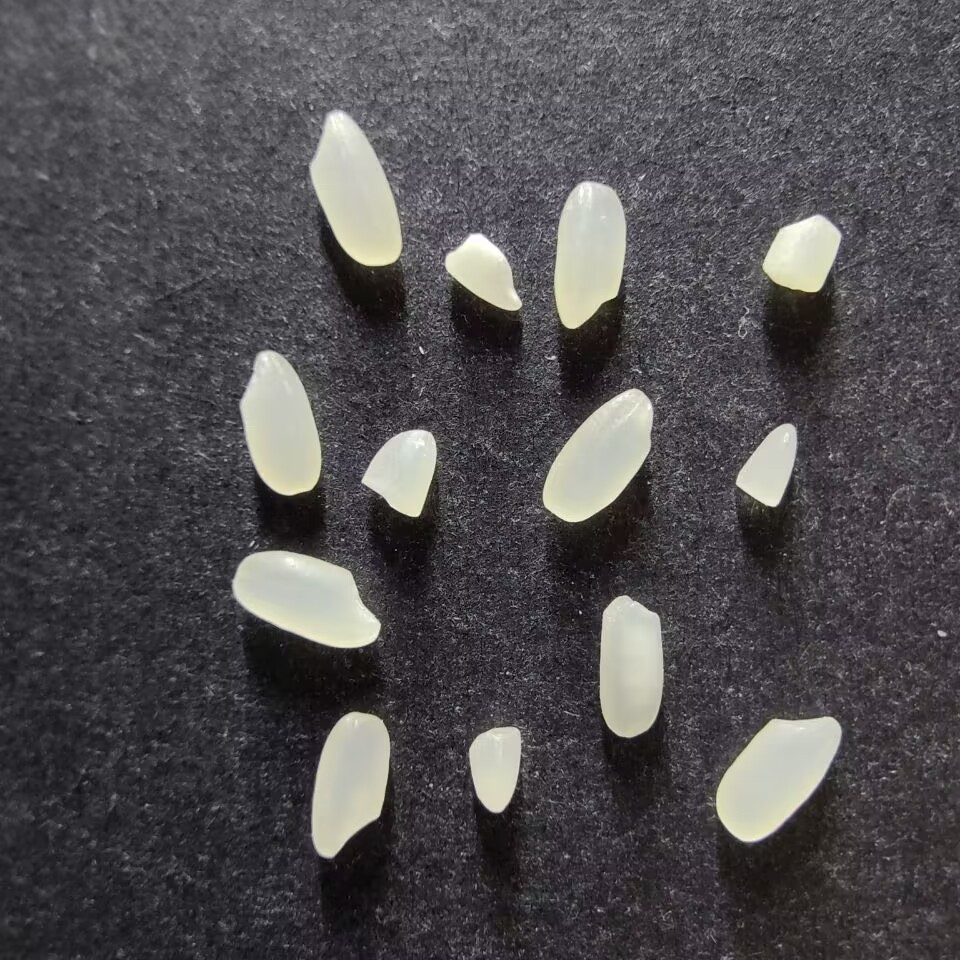broken: (359, 429, 437, 517), (443, 232, 524, 311), (764, 213, 842, 293), (735, 422, 797, 507), (467, 726, 522, 814)
rice: (714, 714, 842, 843), (541, 387, 653, 524), (231, 549, 381, 649), (307, 109, 402, 266), (237, 350, 322, 496), (310, 711, 390, 860), (552, 181, 626, 330), (596, 594, 664, 739)
